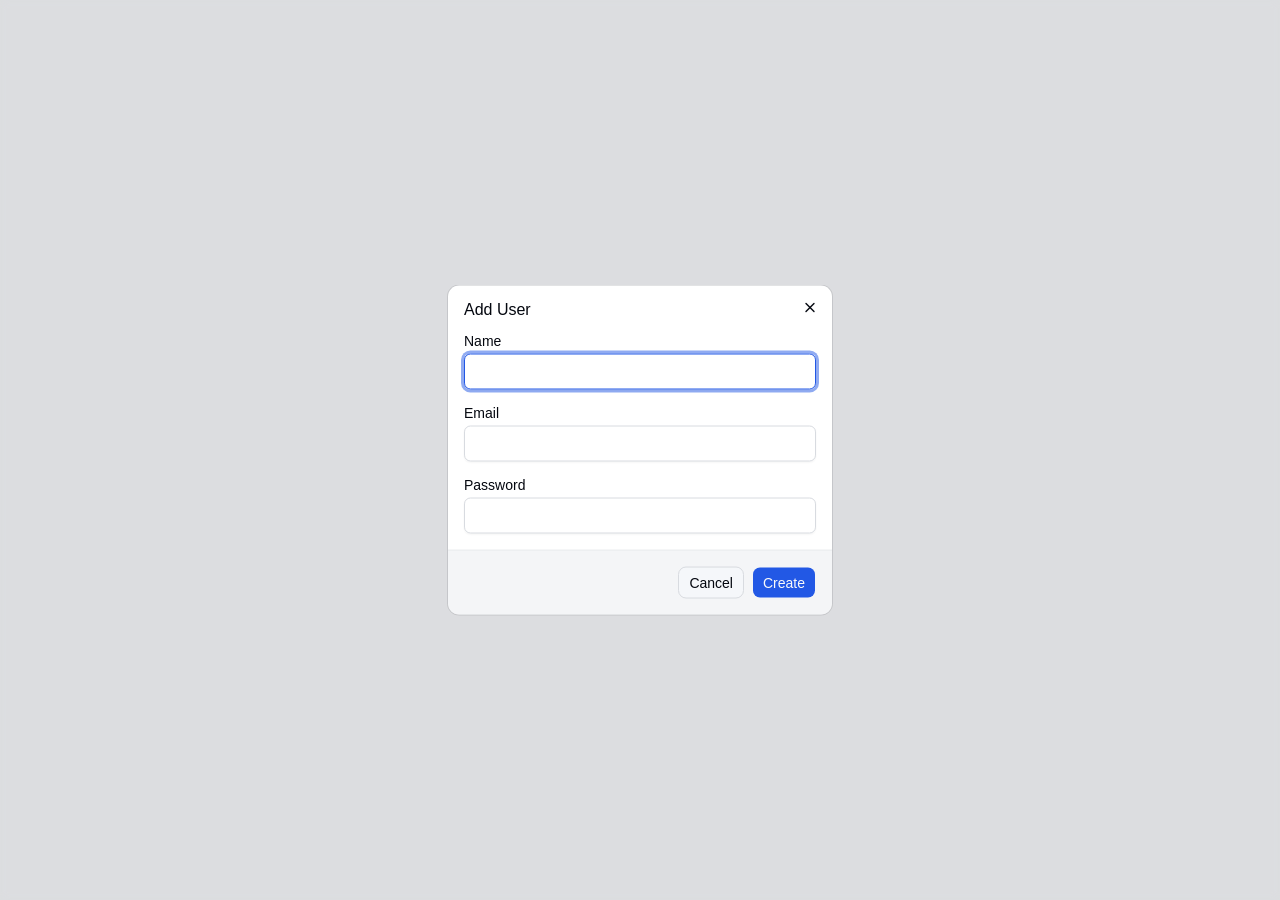
Test: CreateUserDialog › validation › shows an error when Password is too short
Type "short" into the password field labelled "Password" at (640, 516), box [464,498,816,534]
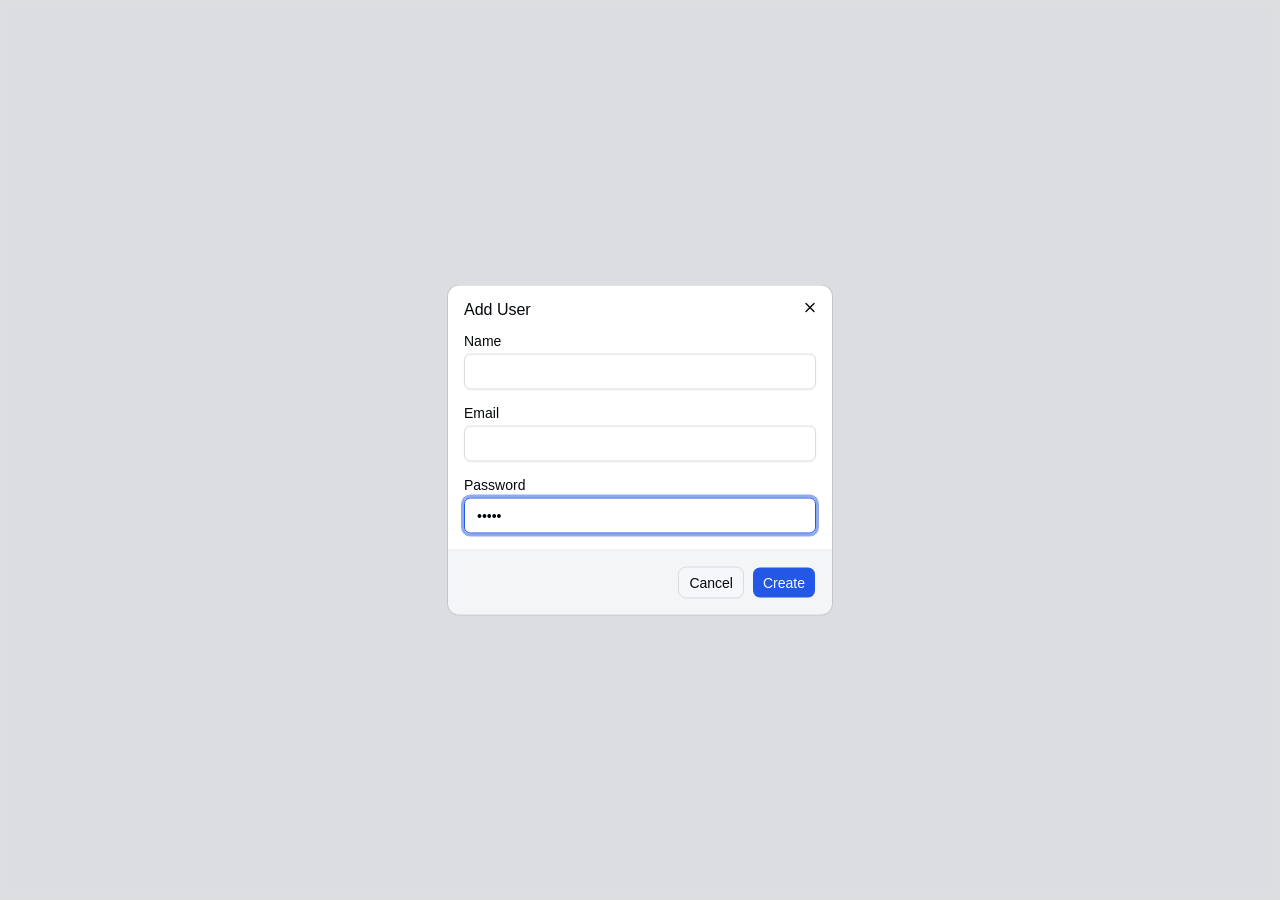
Click the button "Create" at (784, 582), box [752,566,816,598]
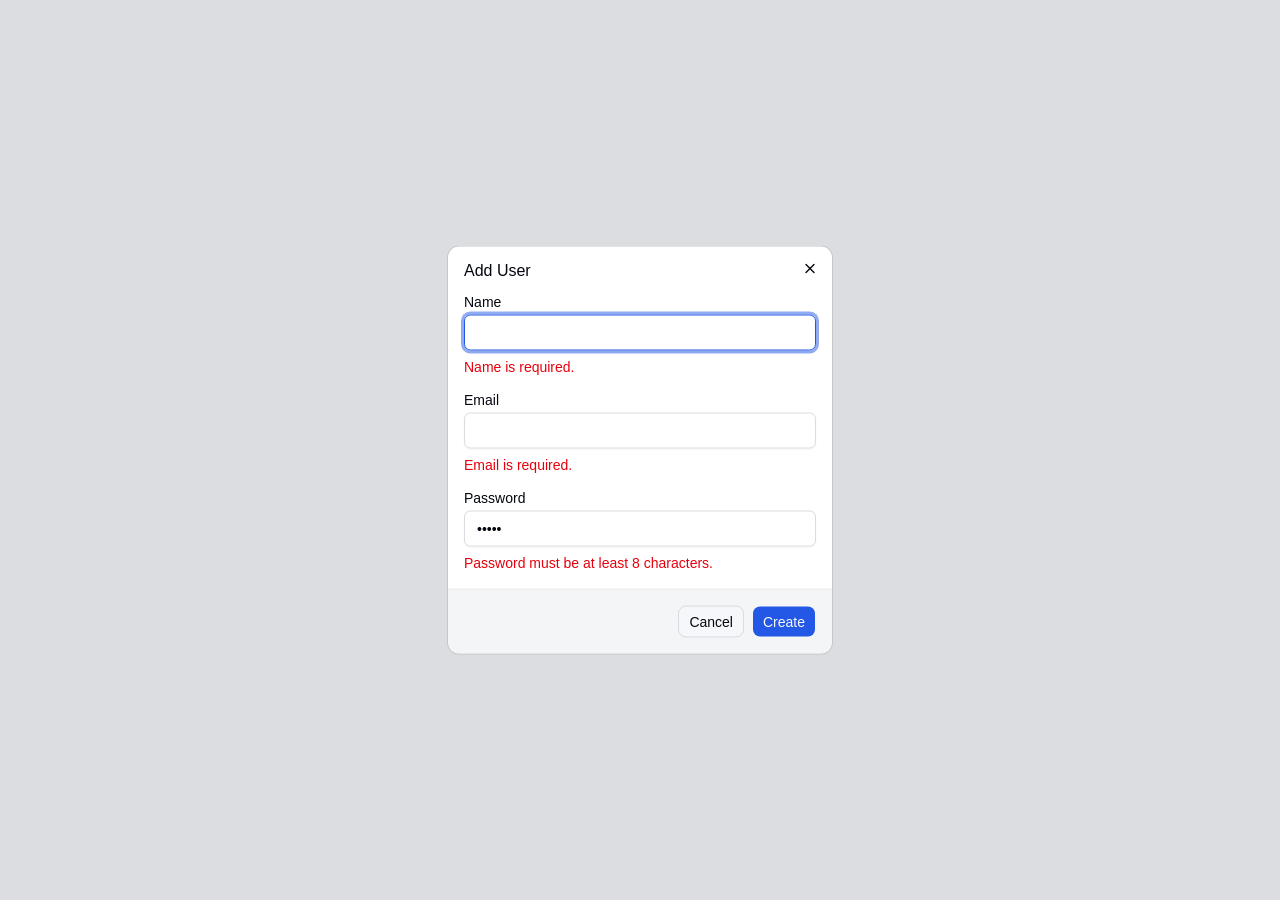
Result: the text "Password must be at least 8 characters." is shown at [464,554,713,570]
